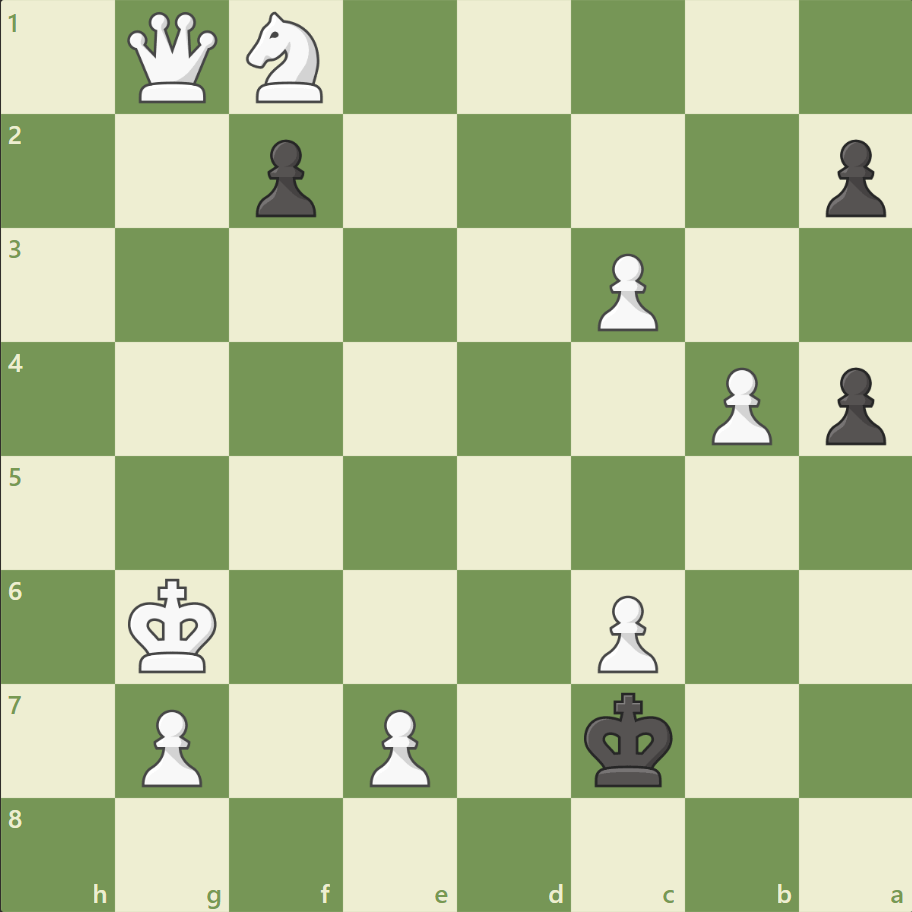K: (124, 571, 224, 679)
N: (238, 7, 335, 110)
P: (133, 700, 208, 791), (701, 359, 776, 450), (361, 700, 435, 791), (588, 586, 662, 677), (588, 246, 662, 337)
Q: (124, 9, 223, 108)
k: (579, 685, 679, 793)
p: (247, 132, 322, 223), (815, 359, 889, 450), (815, 132, 889, 223)
